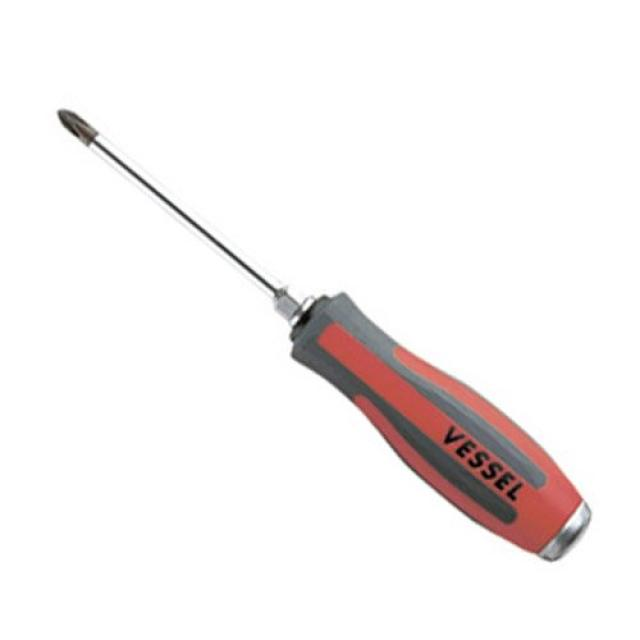Screwdriver: (59, 111, 591, 559)
